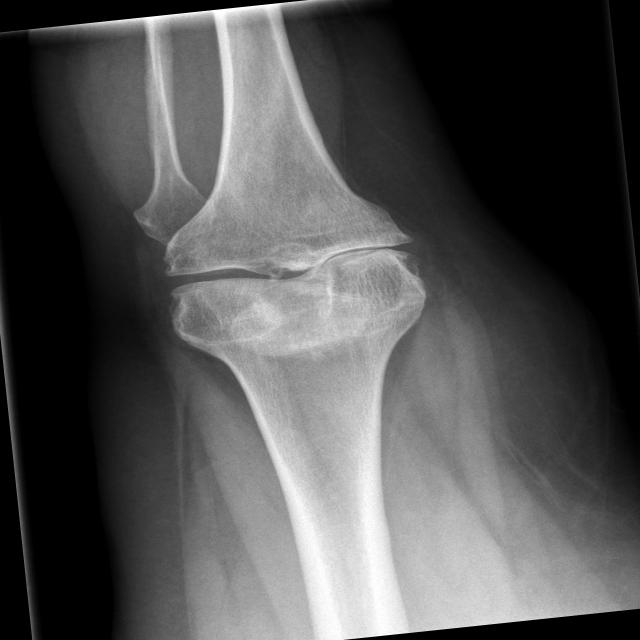Knee: (158, 194, 434, 356)
